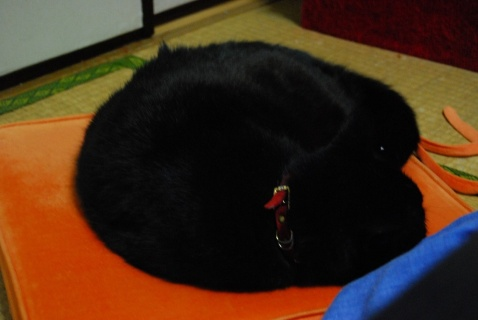Cat: (71, 34, 430, 296)
